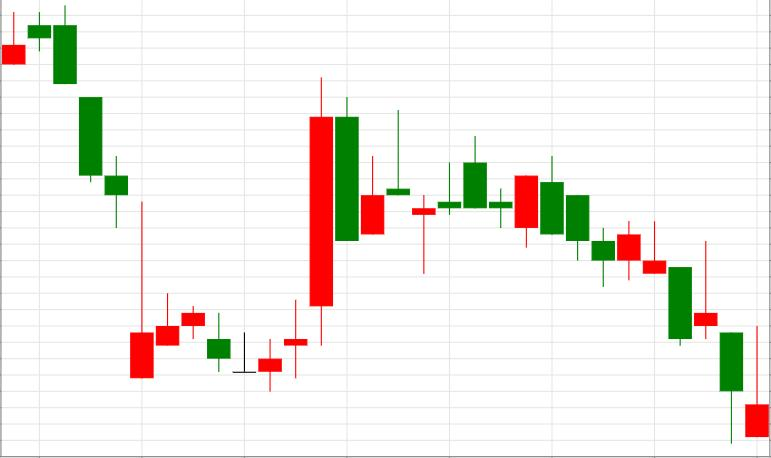inverse_hammer_rise: (541, 156, 771, 445), (28, 4, 154, 378)
